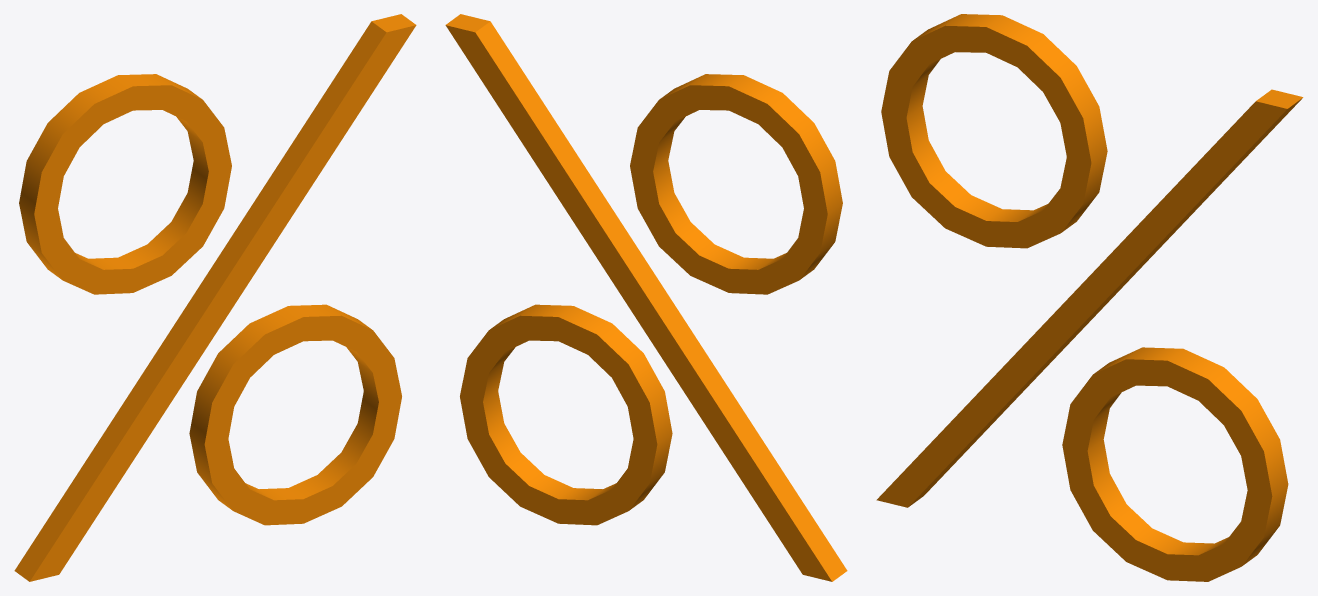
The model's file is Interest.FBX.
3 renders of one model, left to right at view 1: azimuth 30°, elevation 25°; view 2: azimuth 150°, elevation 25°; view 3: azimuth 330°, elevation 25°, orthographic. The views are drawn at different scales.
Parts seen in each view (by area): view 1: Interest; view 2: Interest; view 3: Interest.
Part boxes in pixels (left/top/right/bottom): Interest: left=14, top=14, right=416, bottom=581; Interest: left=445, top=14, right=847, bottom=581; Interest: left=876, top=14, right=1303, bottom=581.
Size of the model in its own units: 73.59 by 87.06 by 5.
